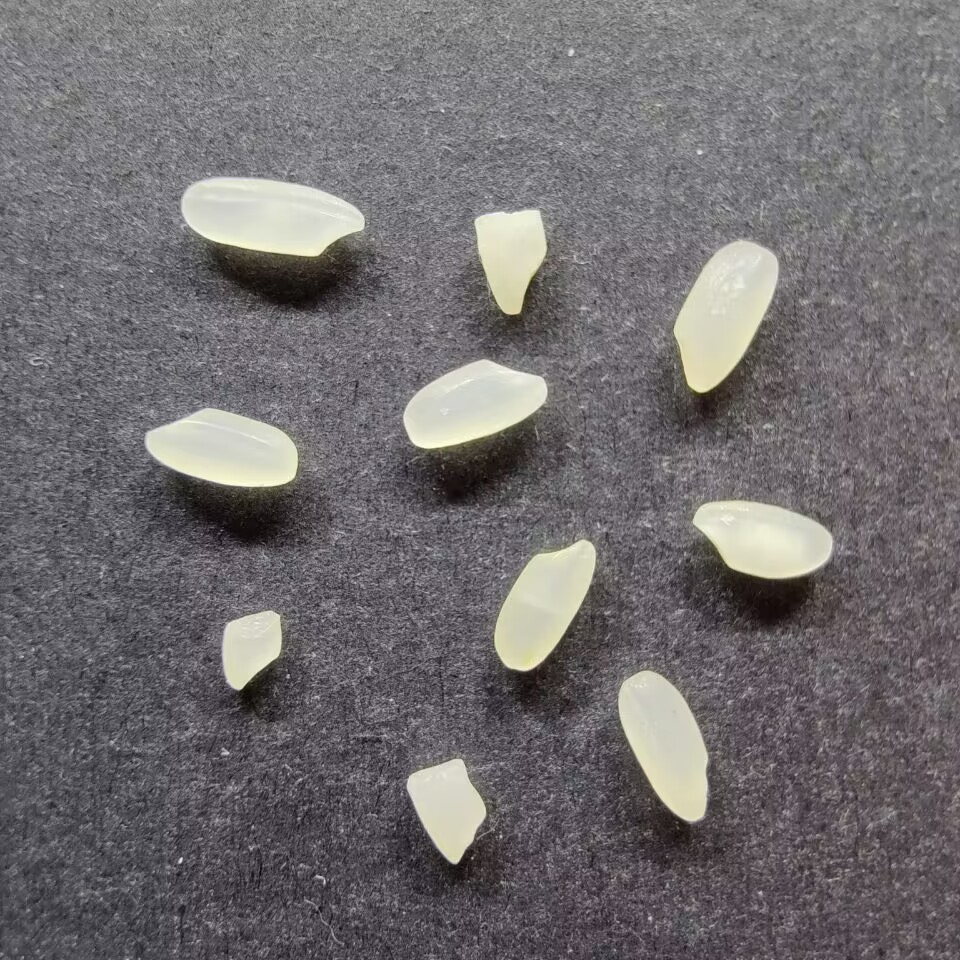broken: (405, 757, 486, 864), (473, 209, 548, 315), (220, 609, 282, 691)
rice: (671, 239, 778, 393), (180, 176, 365, 258), (616, 669, 709, 823), (493, 538, 596, 672), (402, 357, 547, 448), (143, 406, 298, 488), (691, 499, 831, 579)
